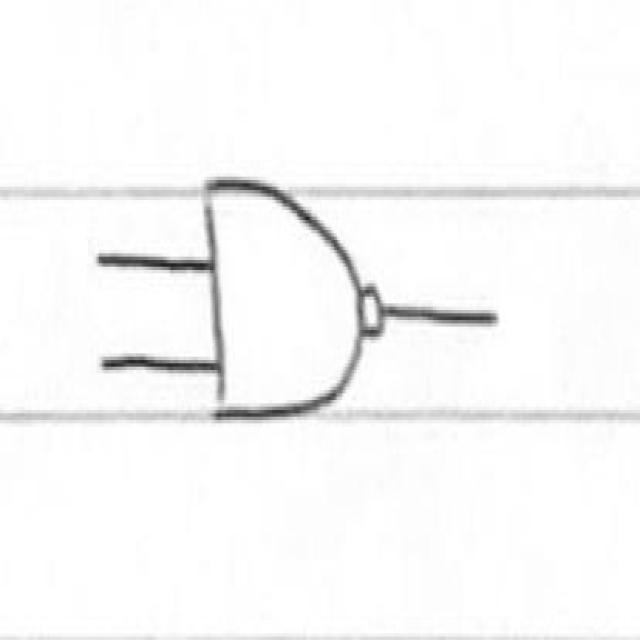NAND: (195, 157, 404, 458)
